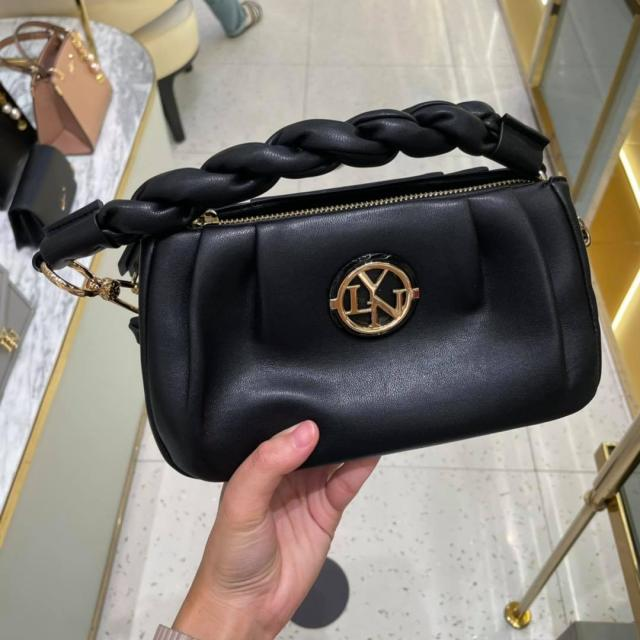handbag: (122, 142, 601, 478)
